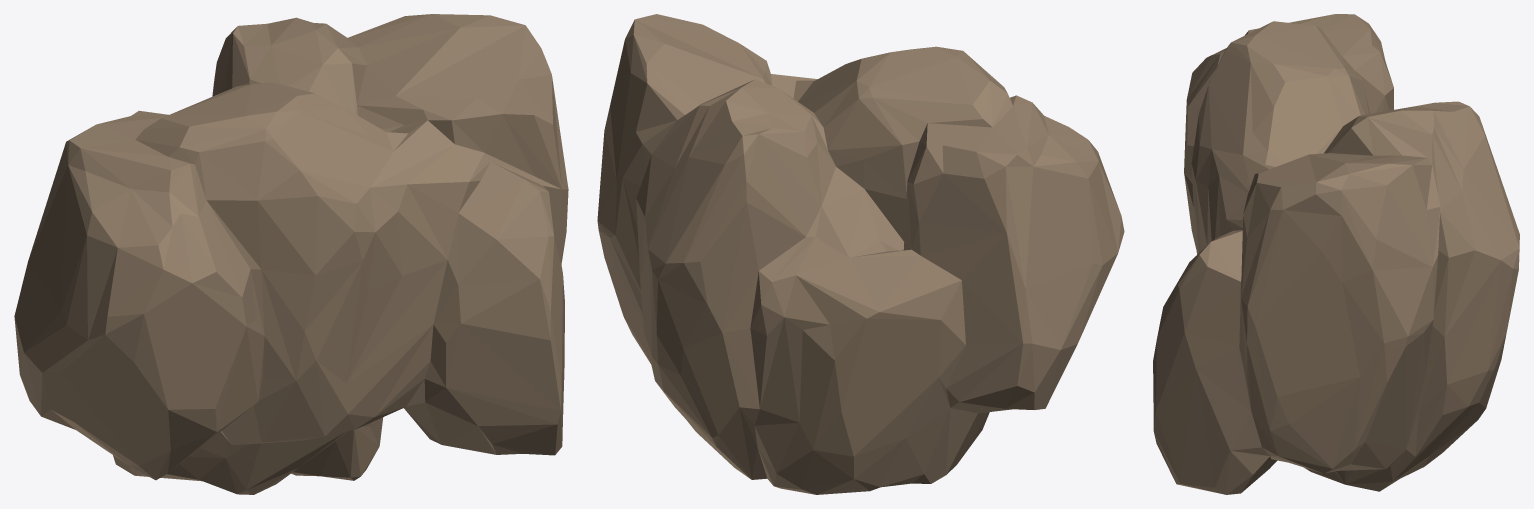
Rendered from SM_Env_Cliff_06.fbx.
The picture shows the model from 3 angles, left to right: view 1: azimuth 30°, elevation 25°; view 2: azimuth 150°, elevation 25°; view 3: azimuth 270°, elevation 25°; orthographic projection. The views are drawn at different scales.
Visible parts, largest first — view 1: SM_Env_Cliff_06; view 2: SM_Env_Cliff_06; view 3: SM_Env_Cliff_06.
Boxes of the visible parts, x1=… form: SM_Env_Cliff_06: x1=14, y1=14, x2=568, y2=494; SM_Env_Cliff_06: x1=597, y1=14, x2=1124, y2=494; SM_Env_Cliff_06: x1=1153, y1=14, x2=1519, y2=494.
Bounding box in the file's own units: 1856 × 1521 × 1349.
